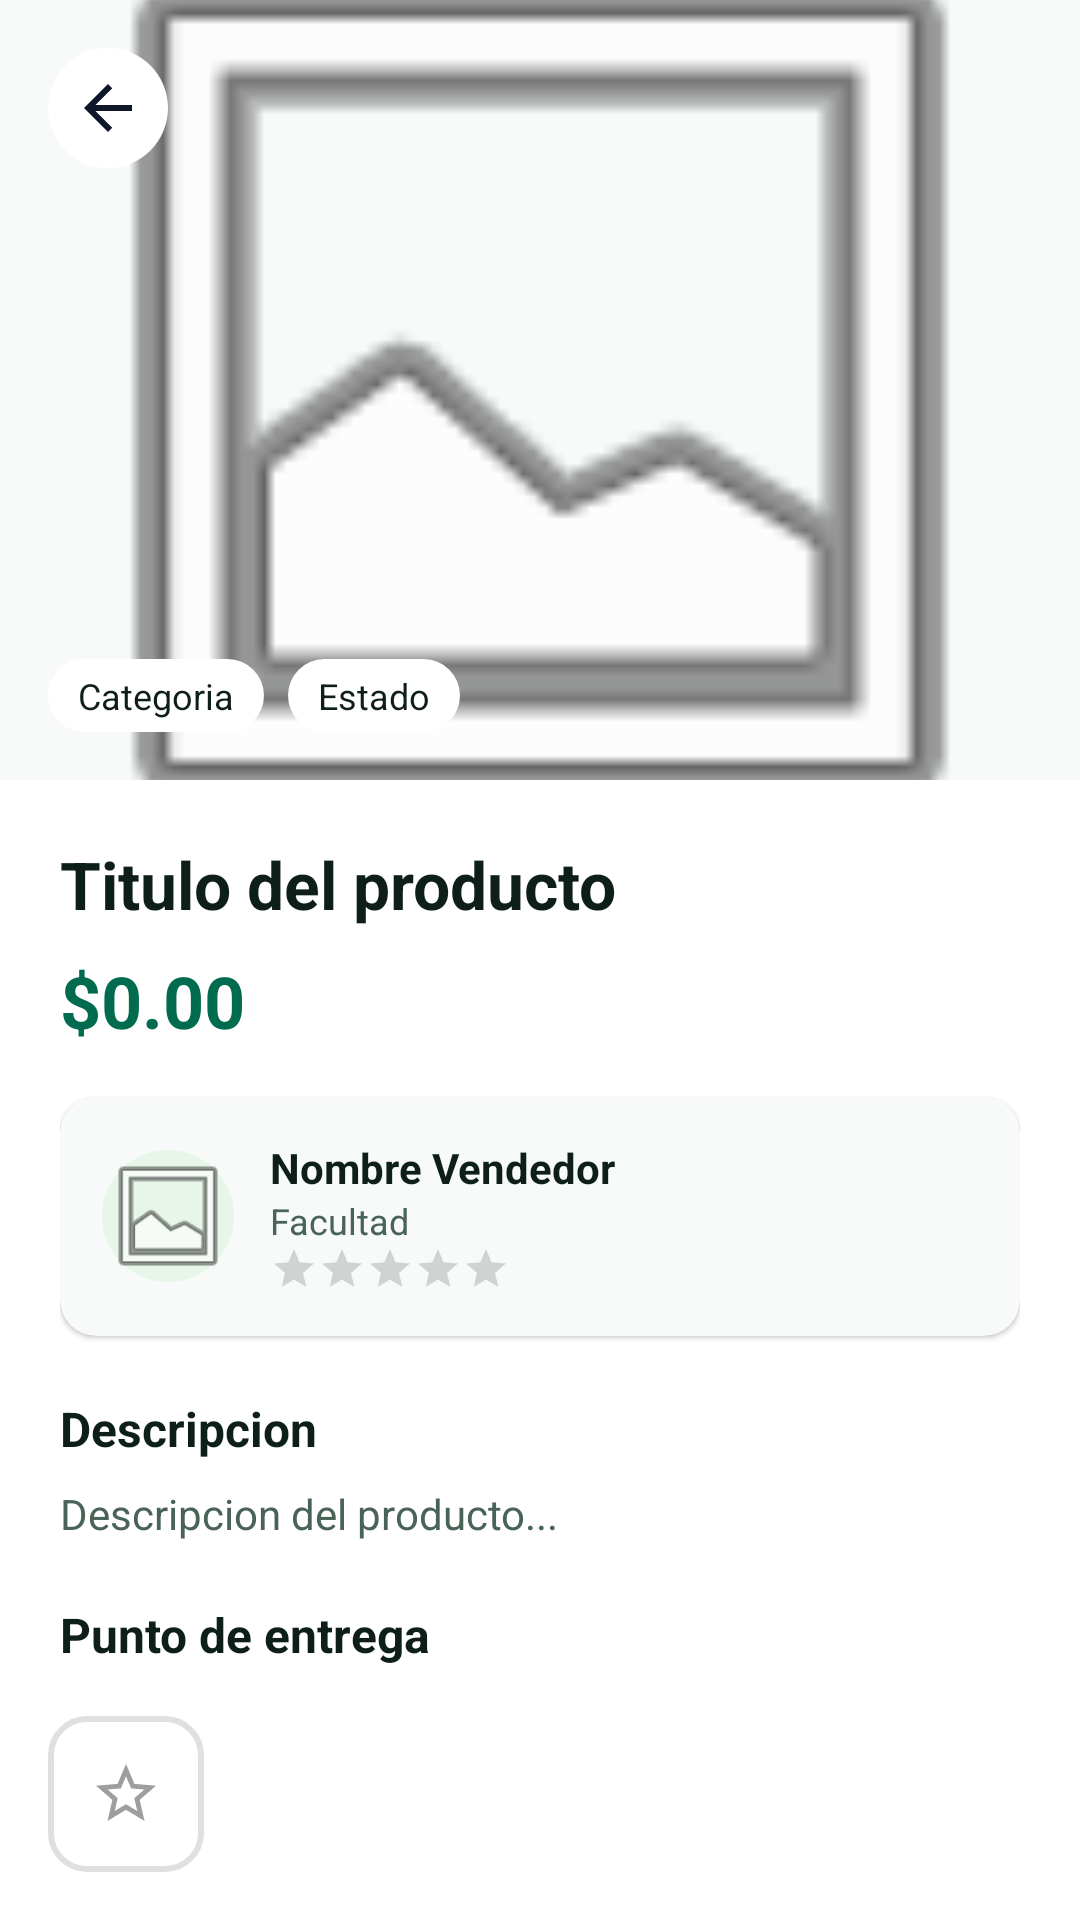

Point at icon controls on the screen. Image size 1080x1920, points as [x,y].
Agregar a favoritos: [126,1794]
Volver: [108,108]
